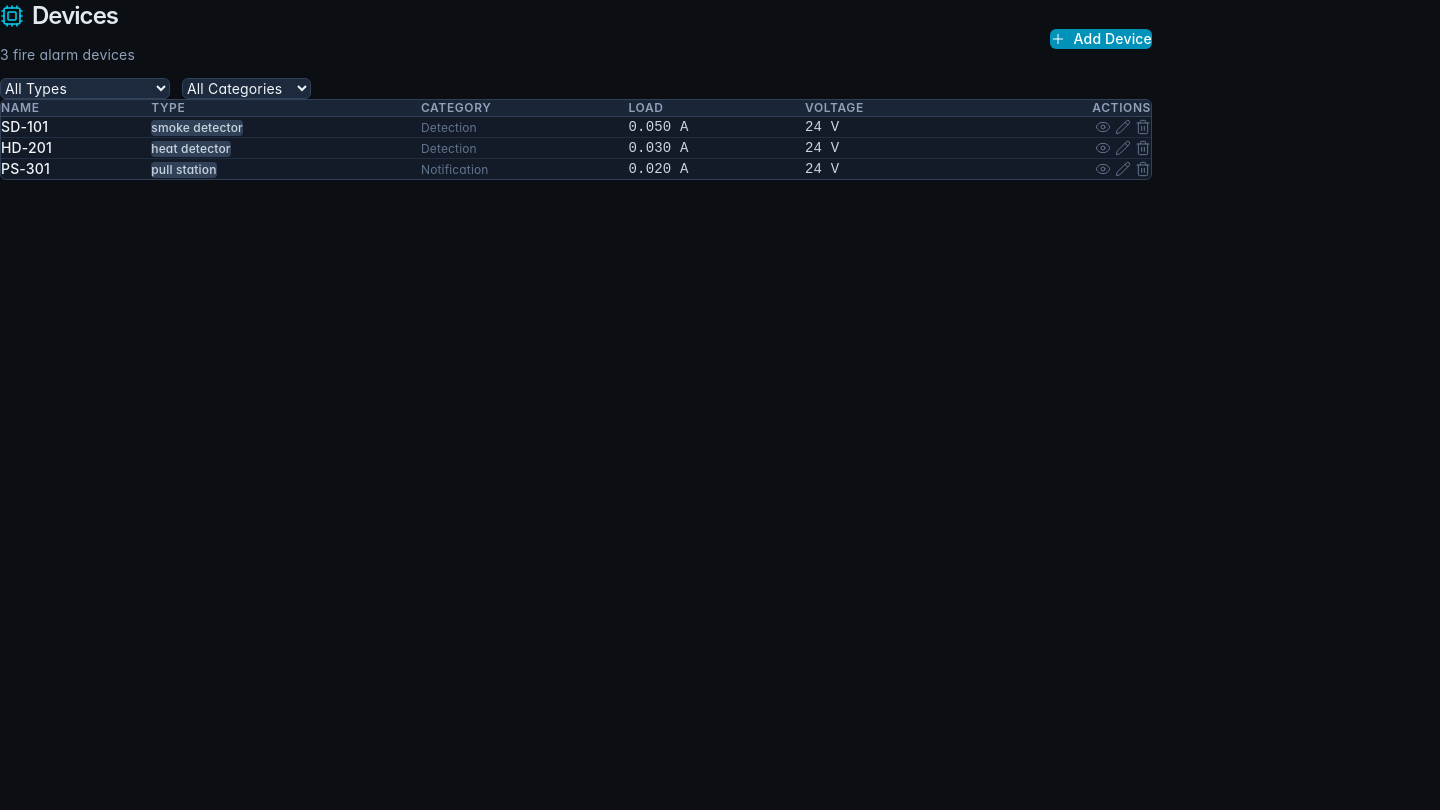
it: DevicesPage › close create modal on cancel
Click the button "Add Device" at [1101, 39], box [1050, 29, 1152, 49]
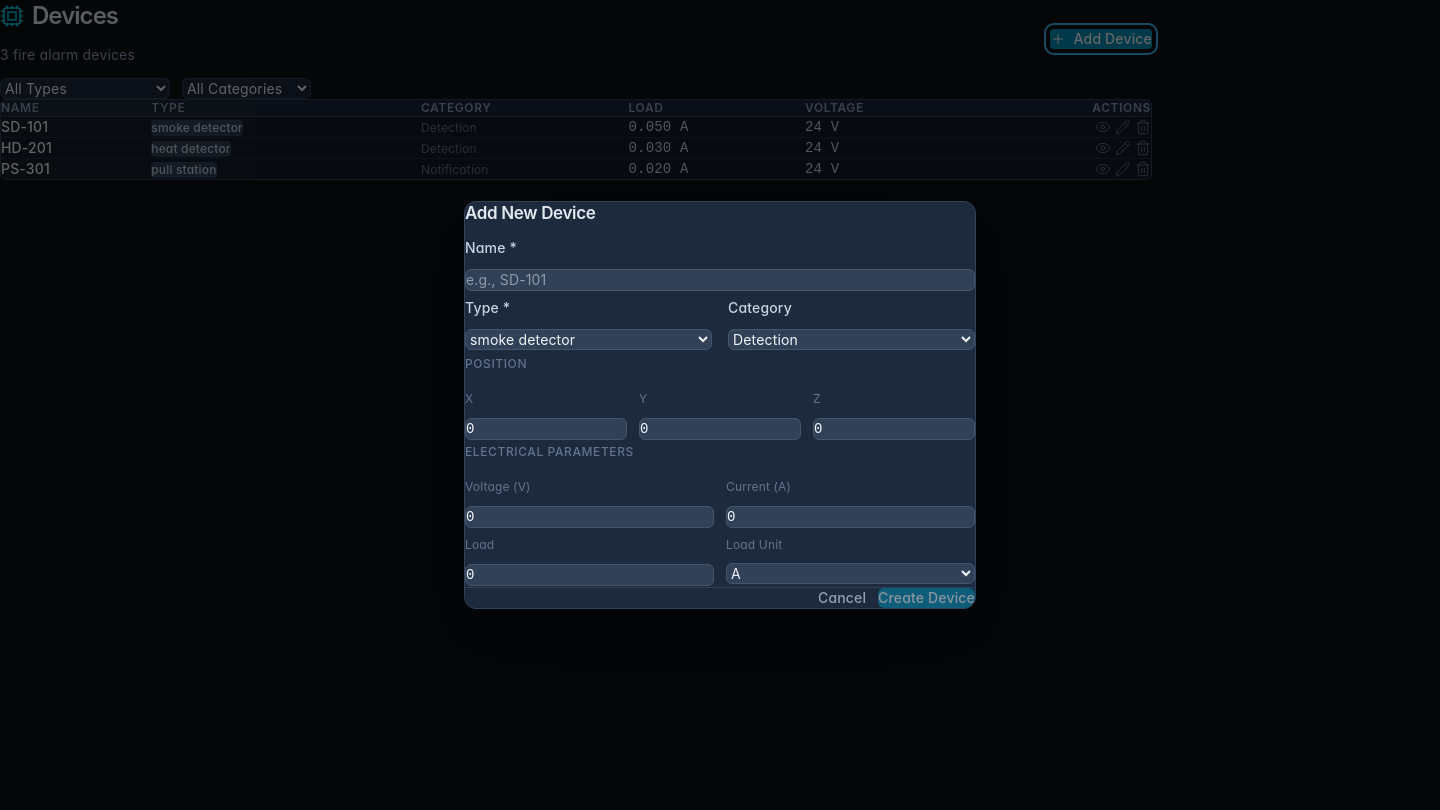
expect the heading "Add New Device" is shown: met, box [465, 203, 596, 223]
Click the button "Cancel" at [842, 598], box [818, 588, 866, 608]
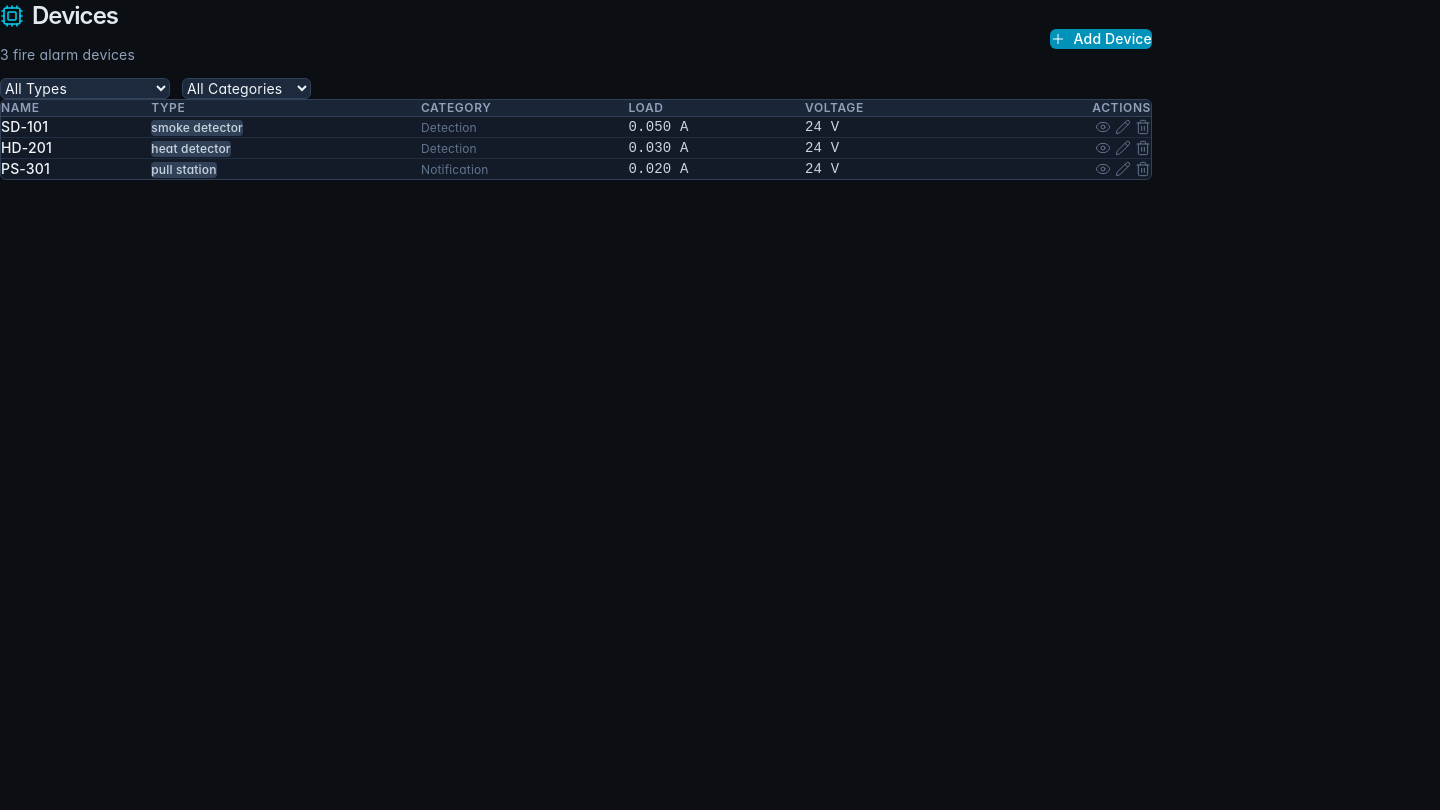
expect the heading "Add New Device" is gone: met
